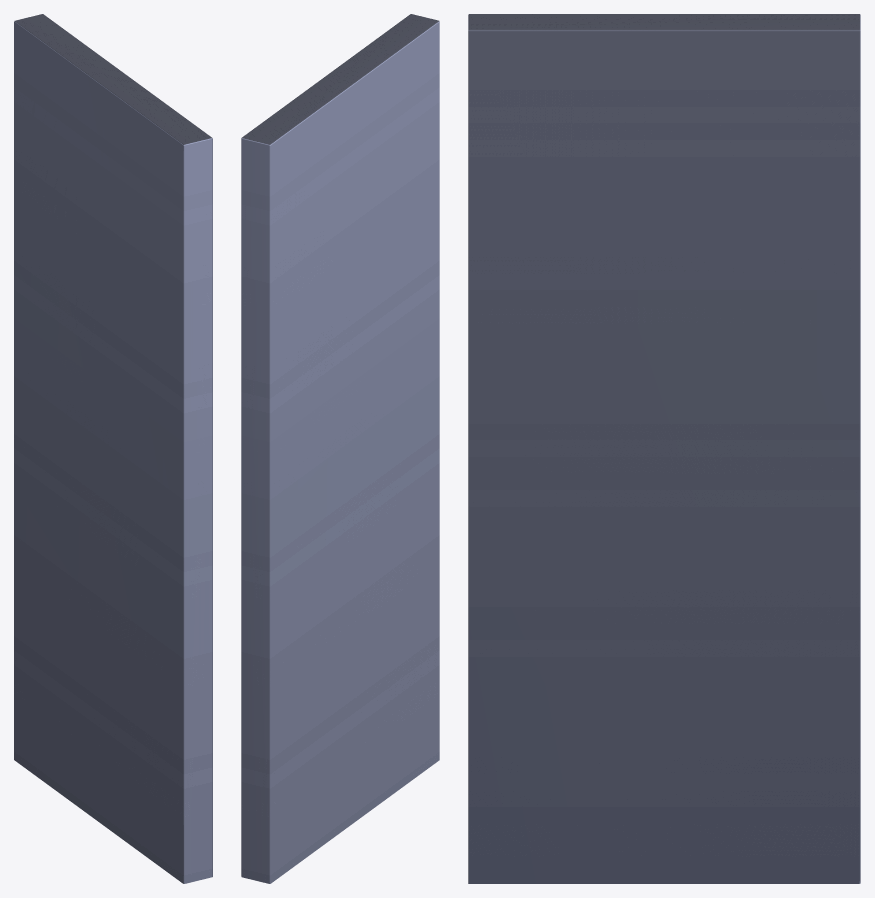
Rendered from wall-half.glb.
The picture shows the model from 3 angles, left to right: view 1: azimuth 30°, elevation 25°; view 2: azimuth 150°, elevation 25°; view 3: azimuth 270°, elevation 25°; orthographic projection. The views are drawn at different scales.
Visible parts, largest first — view 1: wall-half; view 2: wall-half; view 3: wall-half.
Part boxes in pixels (x1=…): wall-half: x1=14, y1=14, x2=212, y2=883; wall-half: x1=241, y1=14, x2=439, y2=883; wall-half: x1=468, y1=14, x2=860, y2=883.
Bounding box in the file's own units: 0.1 × 2.4 × 1.
Materials: 1 (1 with a texture image).
